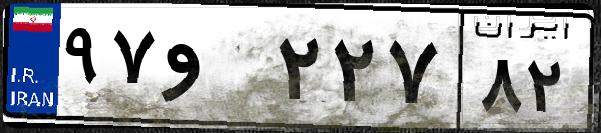2: (270, 28, 330, 110), (330, 28, 385, 110), (525, 38, 570, 115)
7: (385, 28, 445, 110), (110, 28, 158, 98)
8: (475, 38, 525, 113)
9: (57, 26, 110, 100)
و: (158, 20, 270, 120)
